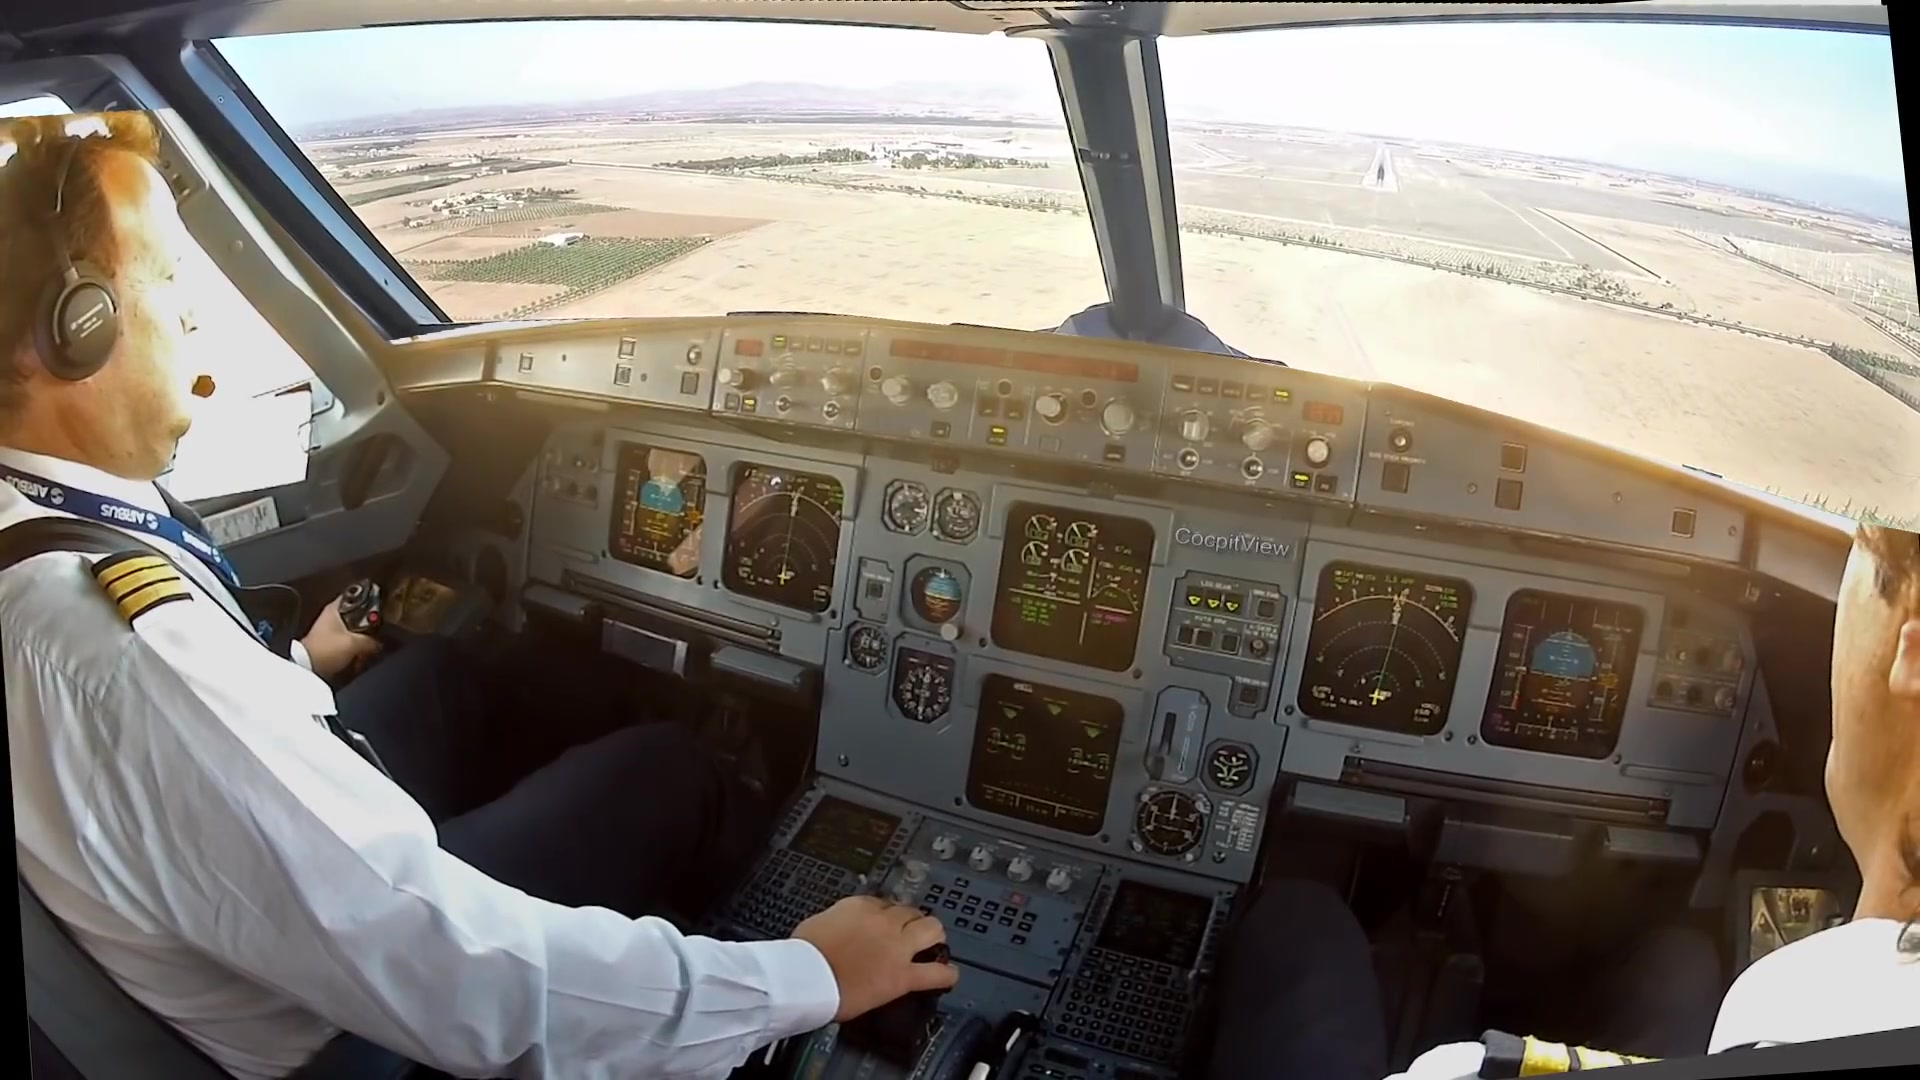runway: (1361, 145, 1400, 193)
